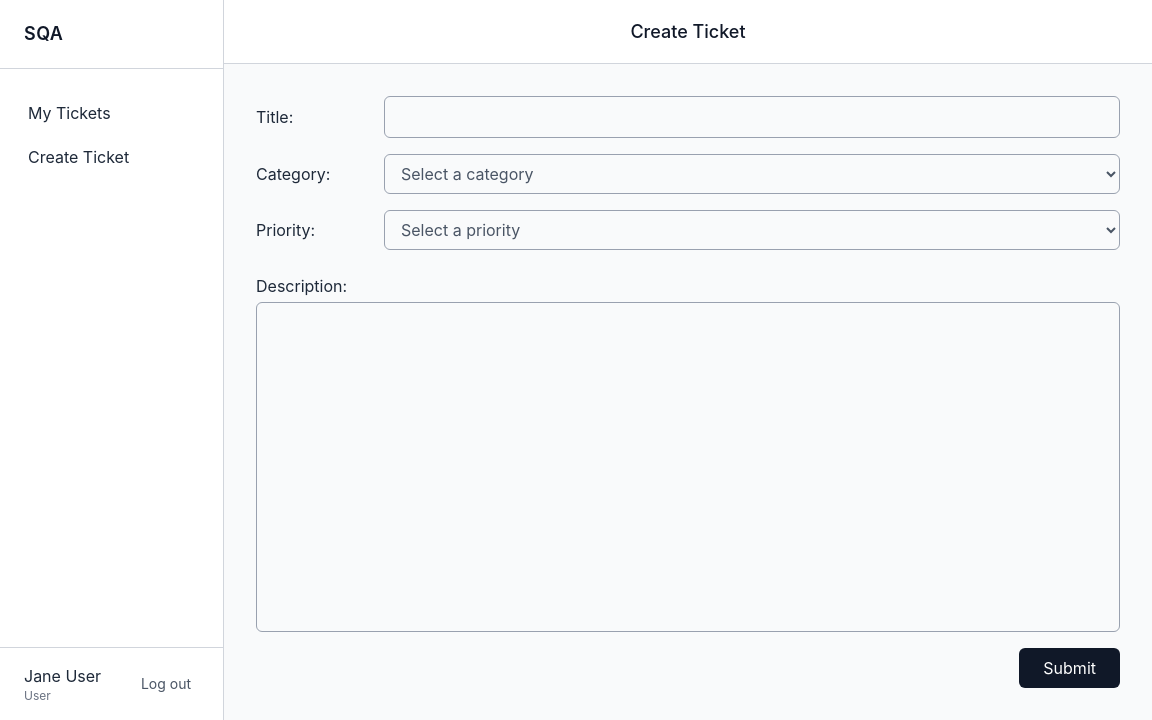
it: CreateTicket page › TC-FR13-15: field errors returned by service-level validation are shown on the form
Type "Cannot log in" into the field labelled "Title:" at (752,117), box [384,96,1120,138]
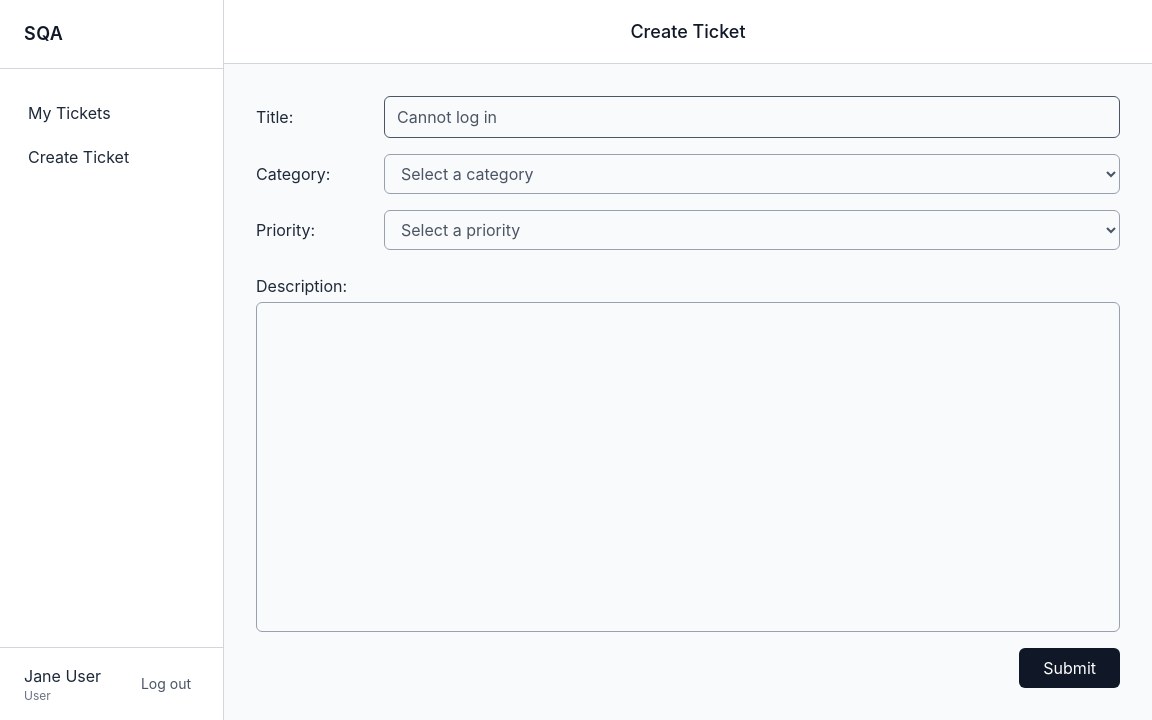
Select "Login Issue" in the dropdown labelled "Category:" at (752,174), box [384,154,1120,194]
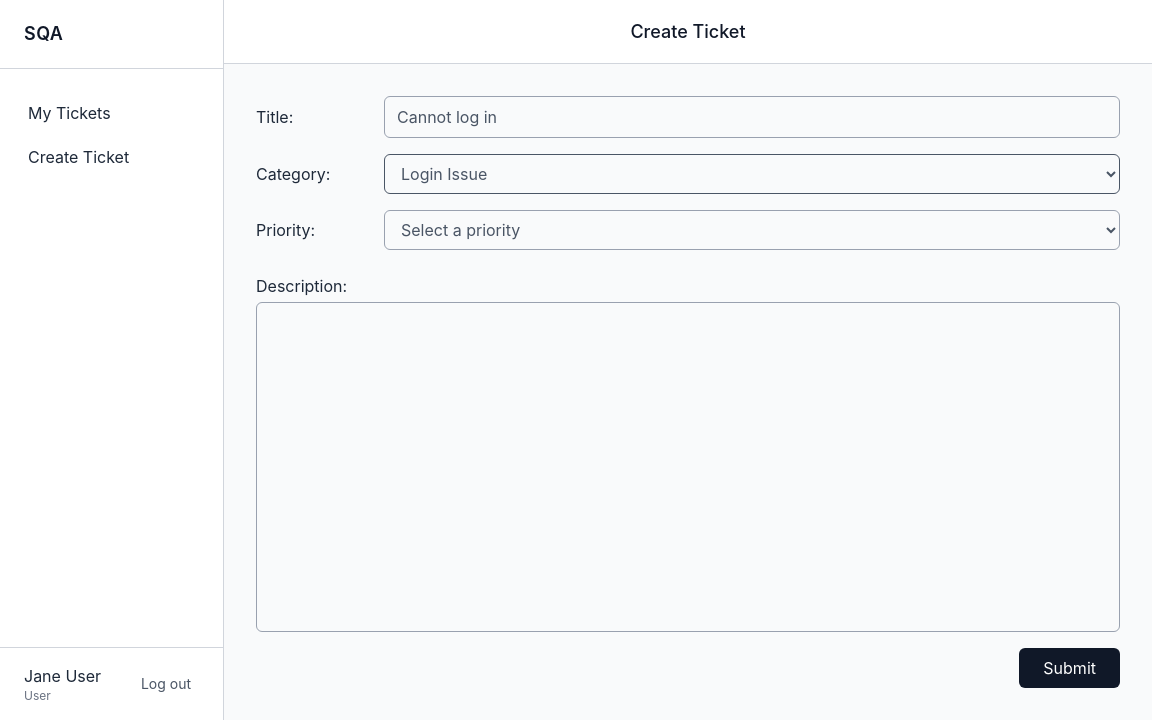
Select "High" in the dropdown labelled "Priority:" at (752,230), box [384,210,1120,250]
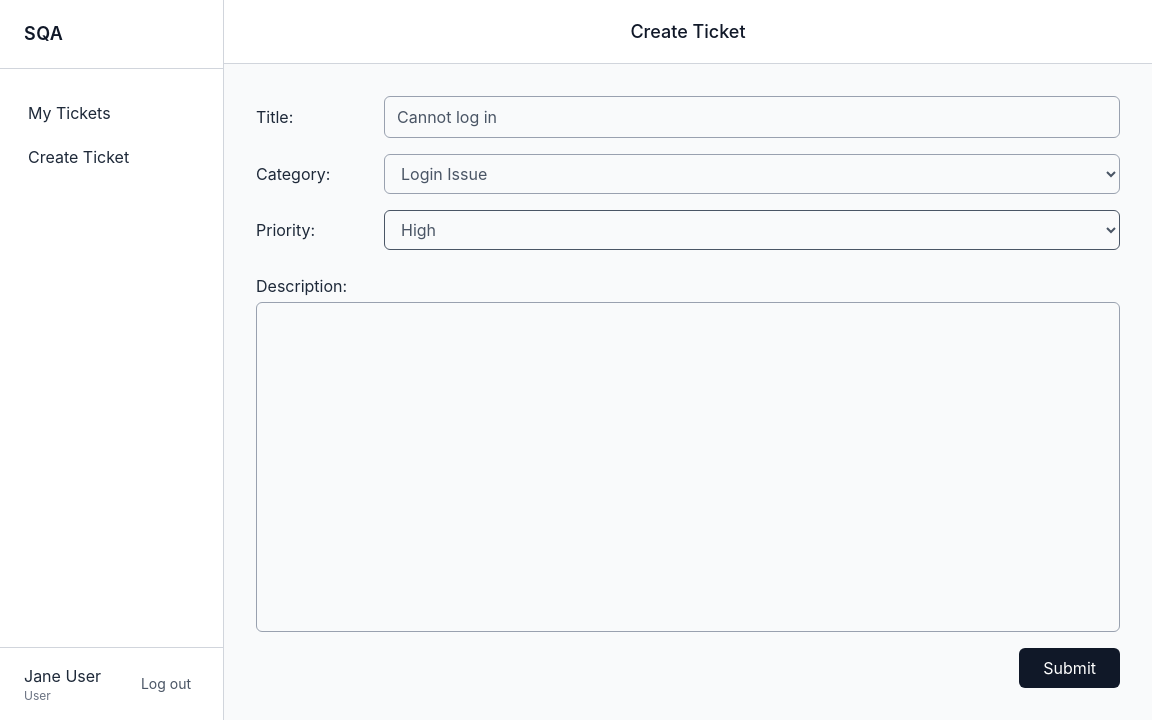
Type "Password is rejected even though it is correct." into the text box labelled "Description:" at (688,467), box [256,302,1120,632]
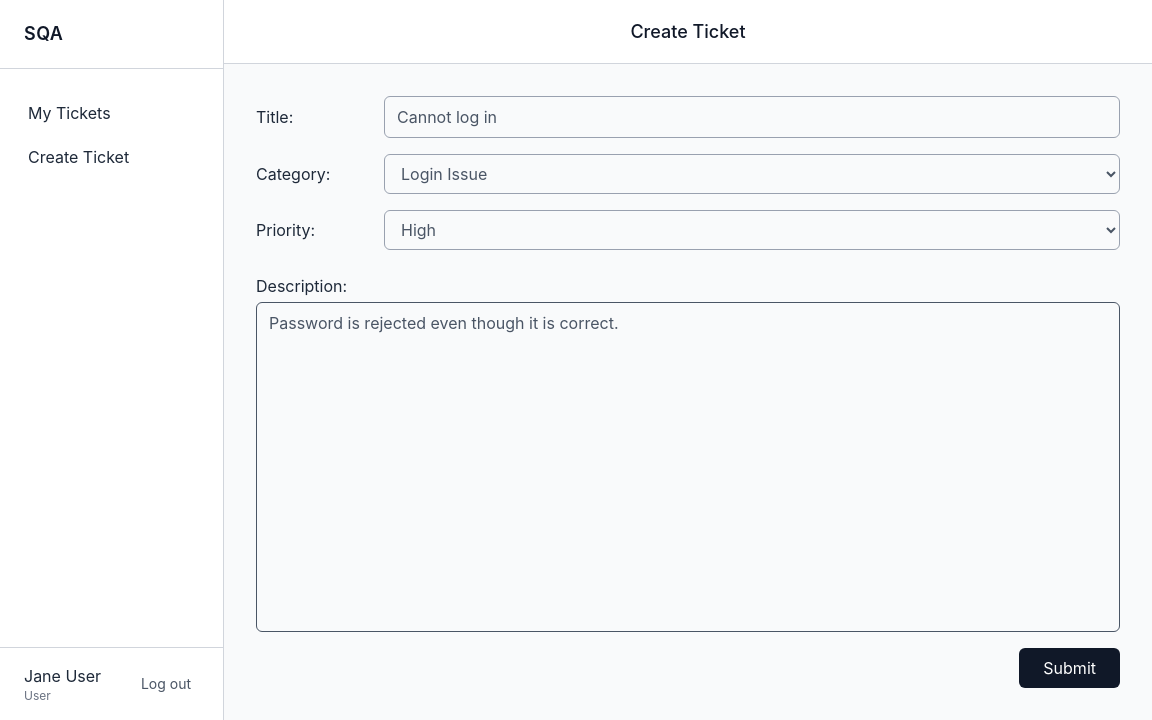
Click the button "Submit" at (1070,668), box [1019,648,1120,688]
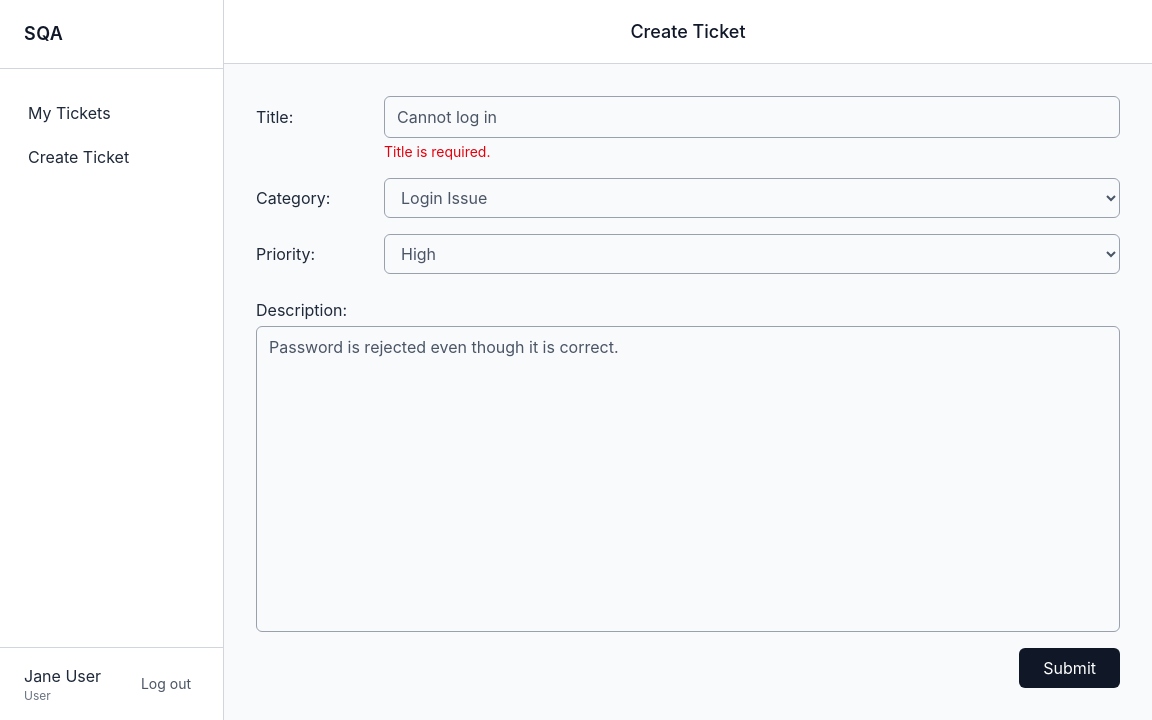
Check: the text "Title is required." is shown, box [384,143,490,160]
